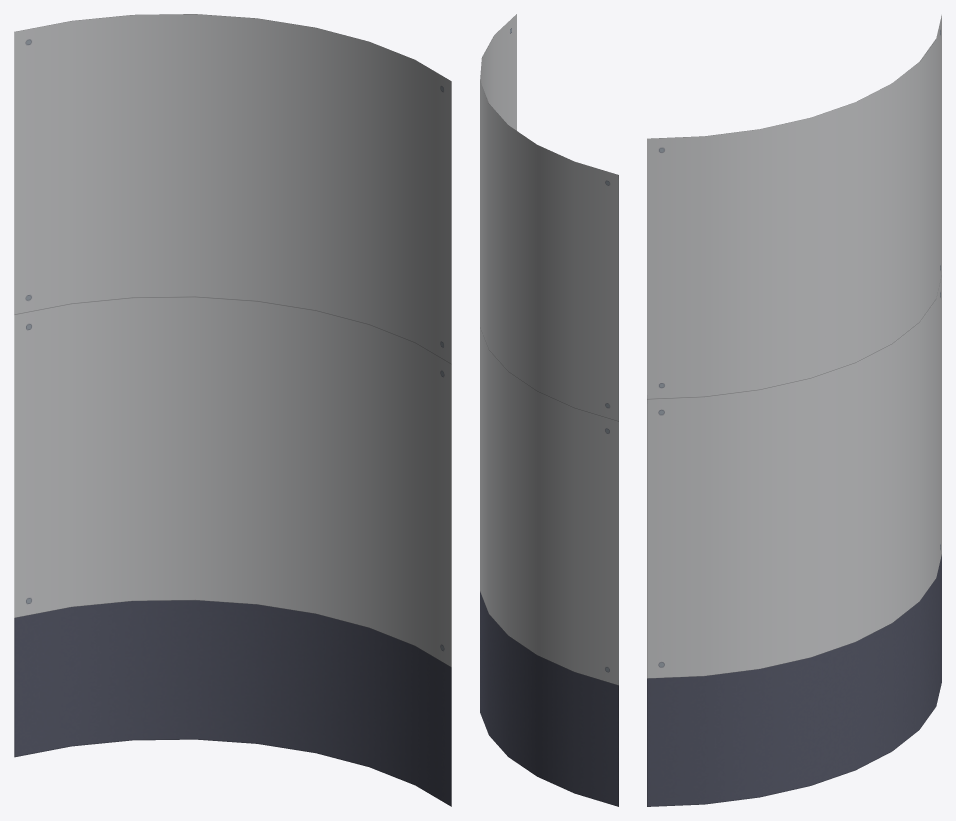
Rendered from Wall_Coin_Simple_02_LP.FBX.
3 views of the same model, side by side, from view 1: azimuth 30°, elevation 25°; view 2: azimuth 150°, elevation 25°; view 3: azimuth 270°, elevation 25° (orthographic). The views are drawn at different scales.
Visible parts, largest first — view 1: Wall_Coin_Simple_02_LP; view 2: Wall_Coin_Simple_02_LP; view 3: Wall_Coin_Simple_02_LP.
Part boxes in pixels (x1,y1,x2,y2): Wall_Coin_Simple_02_LP: [14, 14, 451, 806]; Wall_Coin_Simple_02_LP: [480, 14, 618, 806]; Wall_Coin_Simple_02_LP: [647, 15, 941, 806].
Size of the model in its own units: 2 by 5 by 2.
1 material, 1 textured.
